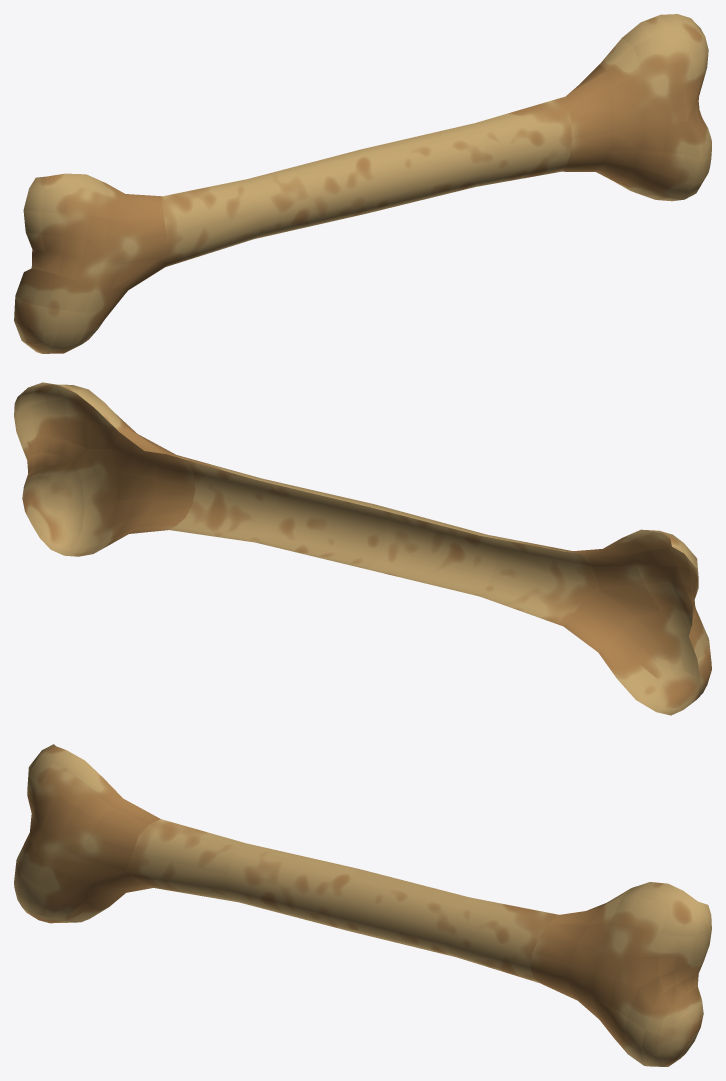
File: bone_gaze.fbx
The picture shows the model from 3 angles, top to bottom: view 1: azimuth 30°, elevation 25°; view 2: azimuth 150°, elevation 25°; view 3: azimuth 330°, elevation 25°; orthographic projection.
Parts seen in each view (by area): view 1: Bone_low:Bone_low; view 2: Bone_low:Bone_low; view 3: Bone_low:Bone_low.
Part boxes in pixels (x1,y1,x2,y2): Bone_low:Bone_low: [14, 14, 711, 353]; Bone_low:Bone_low: [14, 382, 711, 715]; Bone_low:Bone_low: [14, 744, 711, 1066].
Bounding box in the file's own units: 66.18 × 16.84 × 6.37.
1 material, 1 textured.
